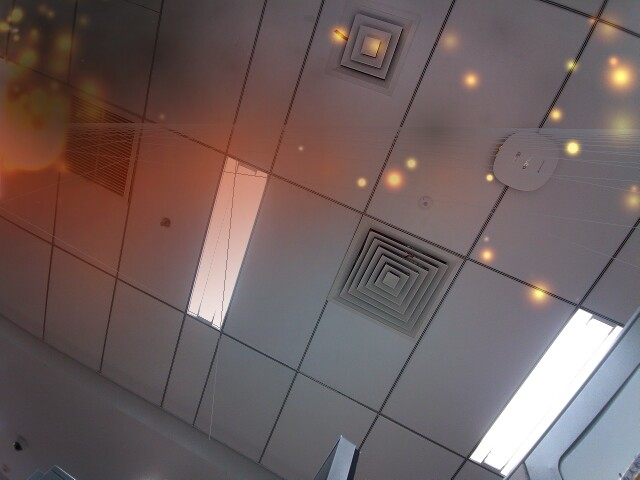fire: (2, 97, 67, 174)
